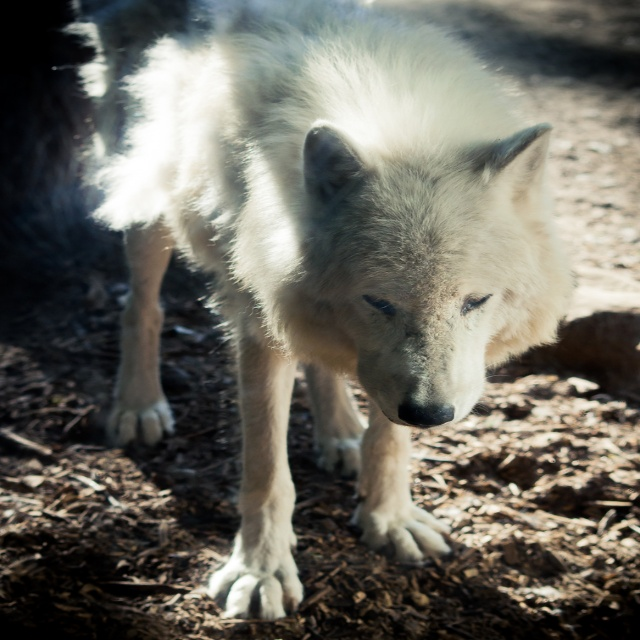Fox: (54, 0, 578, 622)
